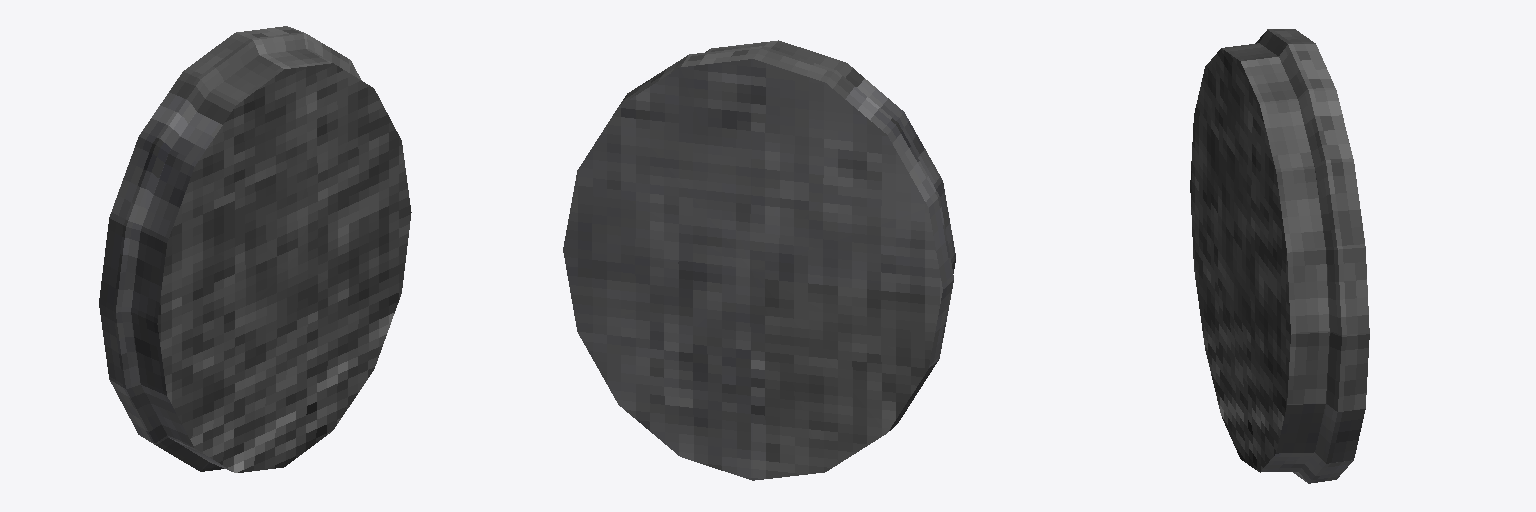
The picture shows the model from 3 angles: view 1: azimuth 30°, elevation 25°; view 2: azimuth 150°, elevation 25°; view 3: azimuth 270°, elevation 25°; orthographic projection.
Parts seen in each view (by area): view 1: LlantaDer5; view 2: LlantaDer5; view 3: LlantaDer5.
Boxes of the visible parts, x1=… form: LlantaDer5: x1=99, y1=26, x2=411, y2=472; LlantaDer5: x1=563, y1=40, x2=955, y2=480; LlantaDer5: x1=1190, y1=29, x2=1369, y2=483.
Bounding box in the file's own units: 0.218 × 0.2666 × 0.1021.
1 materials, 1 textured.